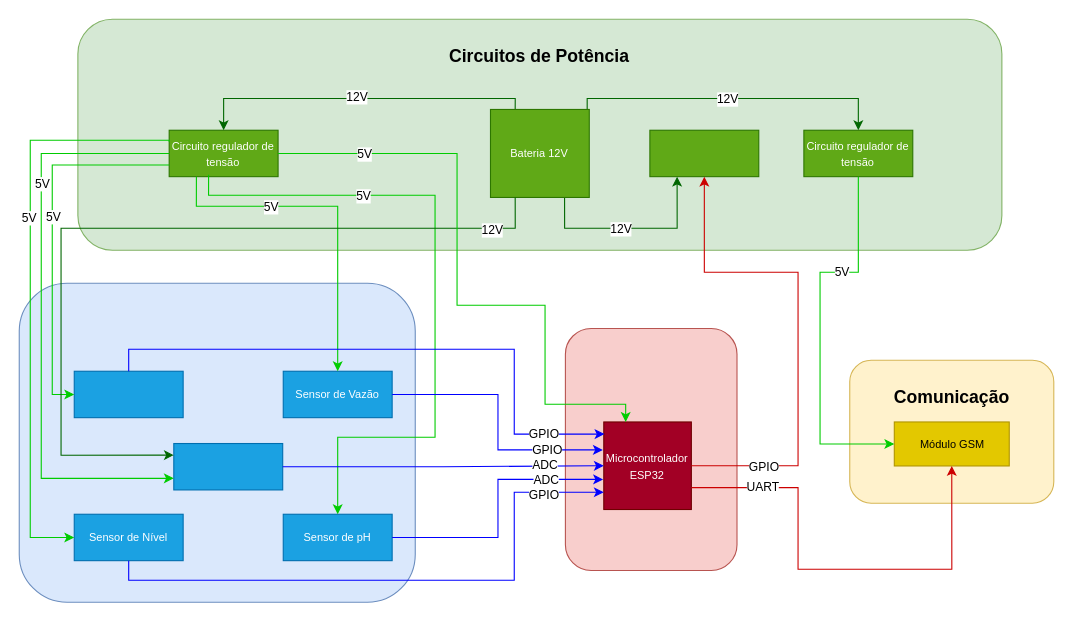
Image size: 1074x622. Some labels were removed from this diagram. The box of each missing label's shape, as (x1, y1, x2, y2) in pixels:
Circuito de controle da bomba: (649, 129, 759, 177)
Embarcados: (564, 327, 737, 570)
Sensor de Temperatura: (73, 370, 183, 418)
Sensor de Tensão: (173, 442, 283, 490)
Sensores: (18, 282, 415, 602)
